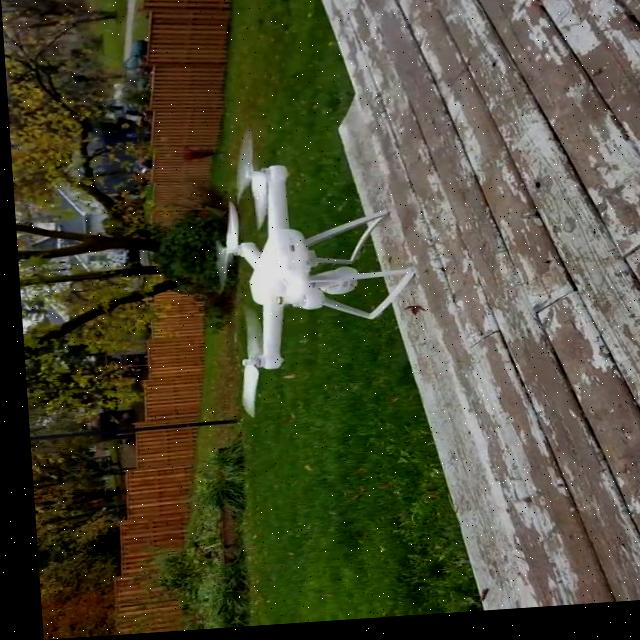drone: (190, 140, 350, 433)
